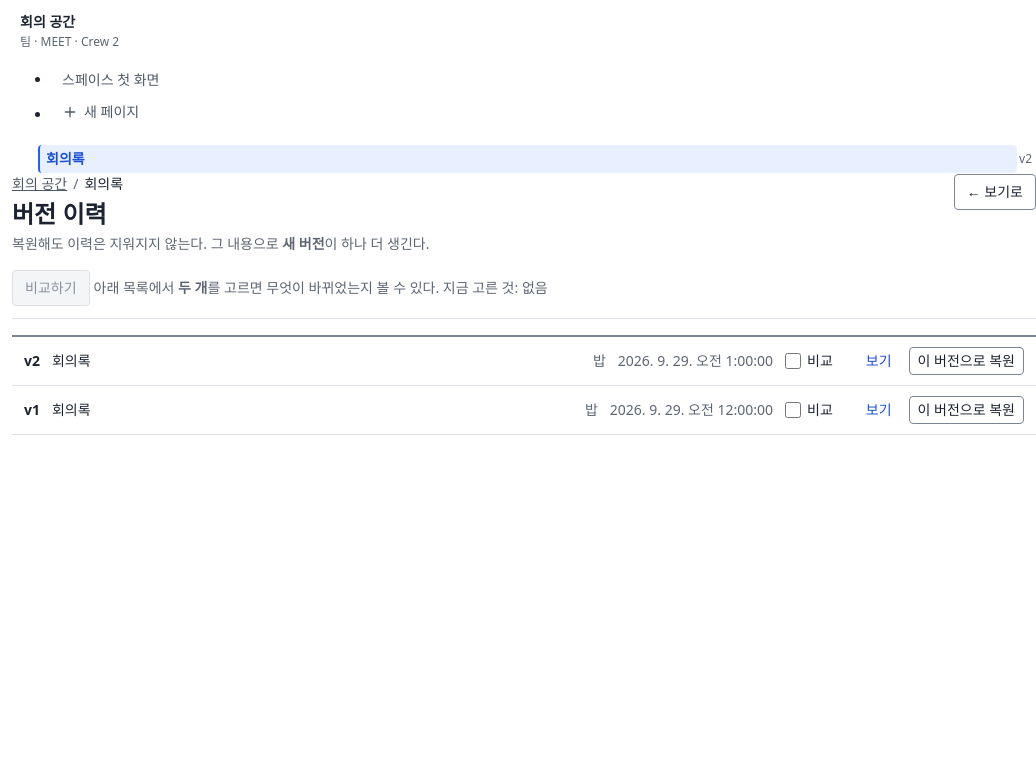
Scenario: PageHistoryPage › 두 개를 고르면 비교하기가 풀리고, 결과는 "버전 비교" 안의 `.diff`에 — 미리보기와 **한 자리**를 번갈아 쓴다
The image size is (1036, 780).
Check: the list named "버전 목록" is shown, box [12,335,1035,435]
Check: the button "비교하기" is disabled, box [12,270,90,306]
What coordinates should you click on to do the following:
click the 2nd checkbox labelled "비교"
I would click on:
 (793, 410)
Its box is [785,402,801,418].
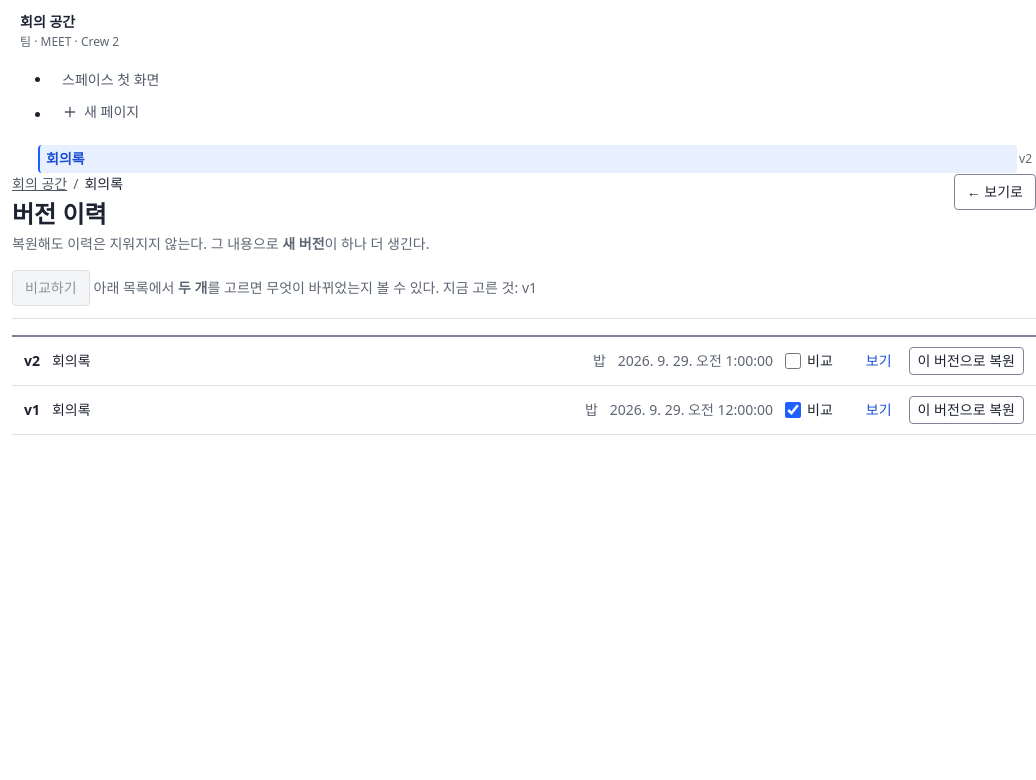
What coordinates should you click on to do the following:
click the 1st checkbox labelled "비교"
I would click on:
 (793, 361)
Its box is [785,353,801,369].
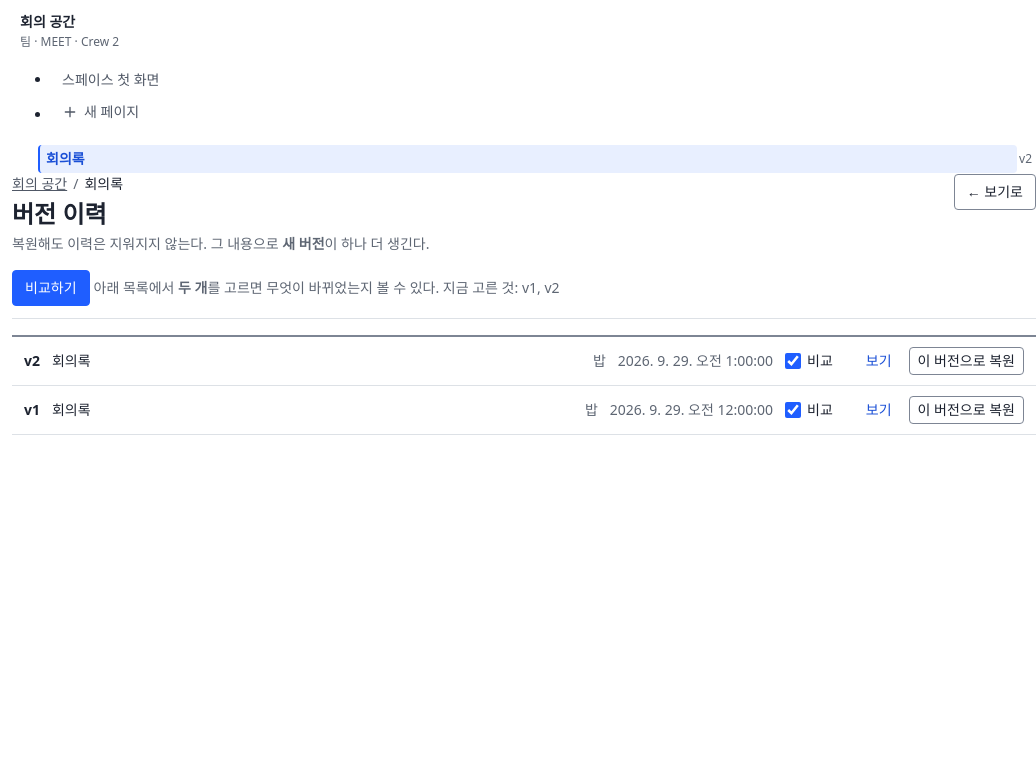
Check: the button "비교하기" is enabled
Check: the text "아래 목록에서 두 개를 고르면 무엇이 바뀌었는지 볼 수 있다. 지금 고른 것: v1, v2" is shown, box [94,278,560,298]
What coordinates should you click on to do the following:
click the button "비교하기"
I would click on:
 (51, 288)
Its box is [12,270,90,306].
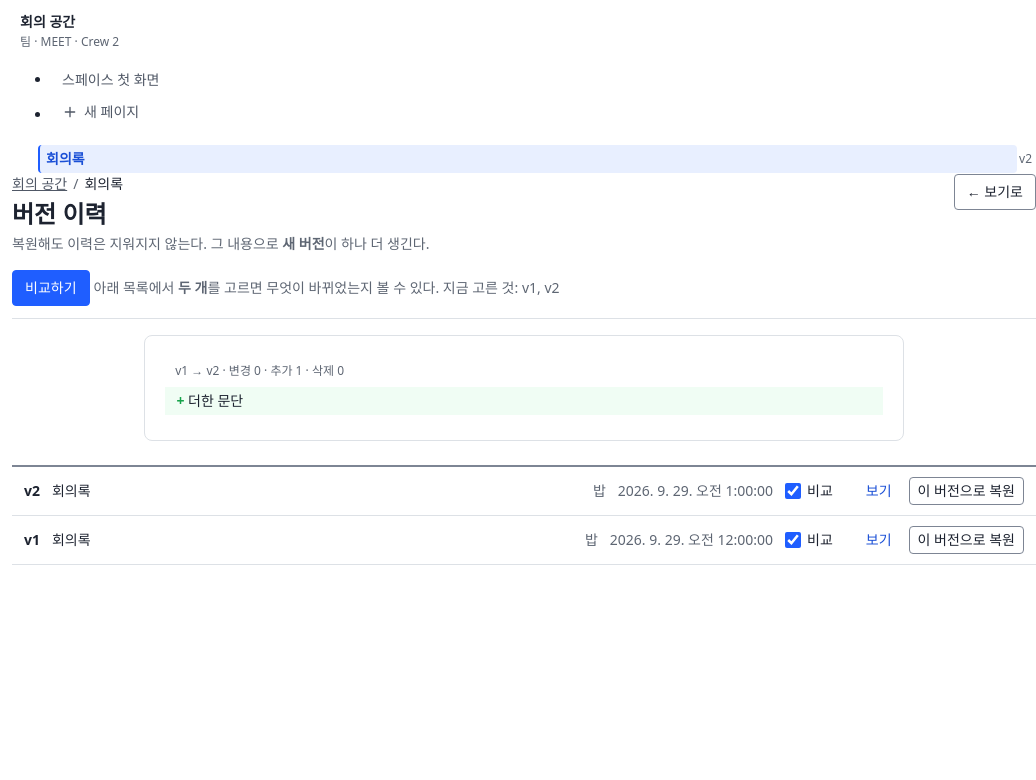
Check: the text with class "diff-added" reads "더한 문단", box [188,391,243,410]
보기 → 같은 자리에 미리보기, 비교 결과는 닫힌다
What coordinates should you click on to do the following:
click the 2nd button "보기"
I would click on:
 (879, 540)
Its box is [861,526,897,554].
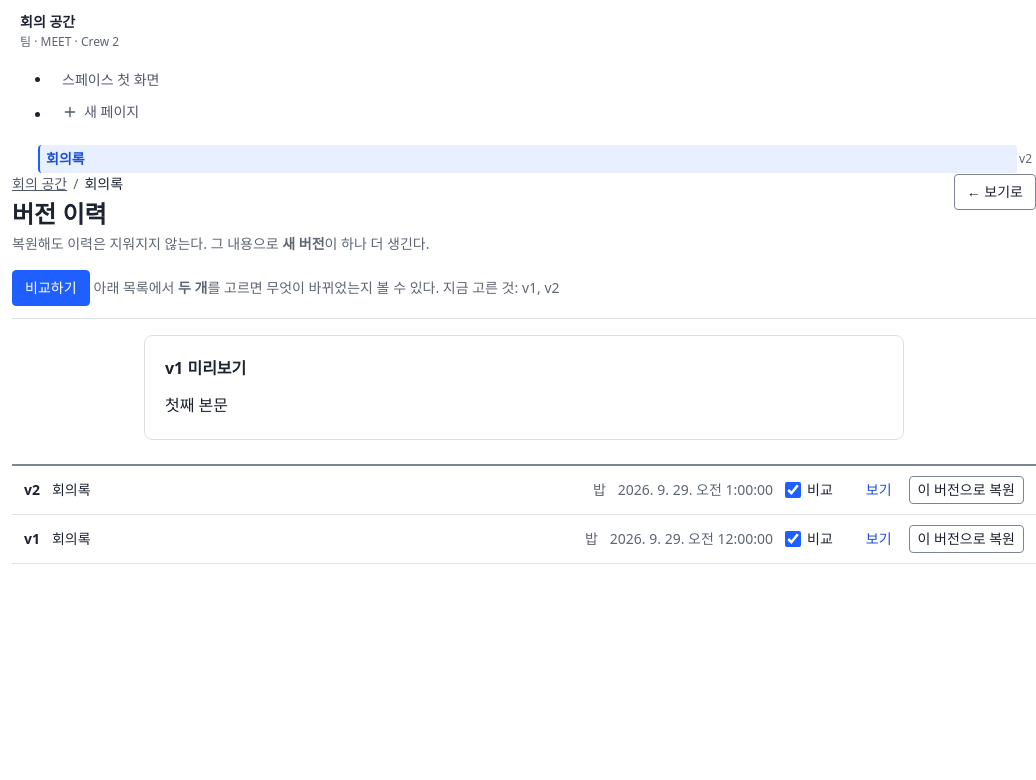
Check: the element with class "readonly" reads "첫째 본문", box [165,394,228,416]
Check: the element with class "diff" is gone
